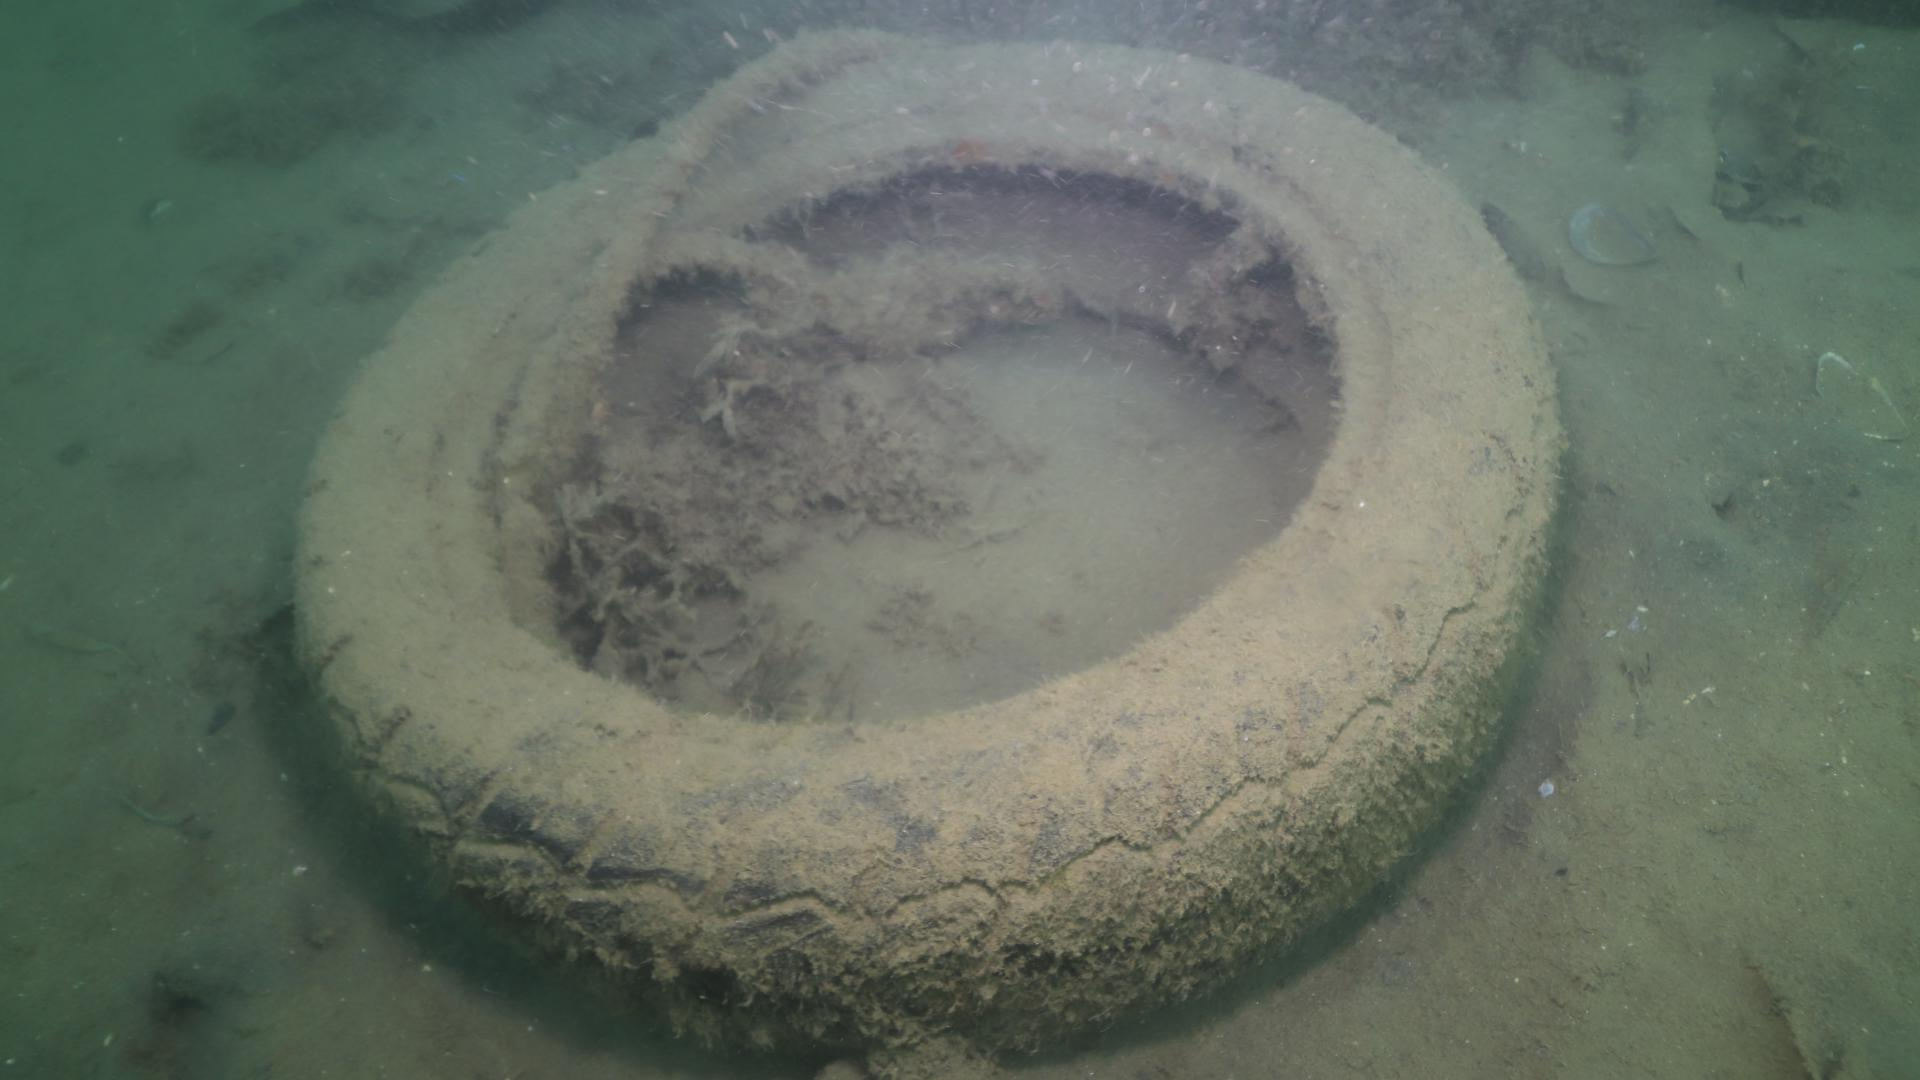bundle of ropes: (545, 29, 881, 400)
tire: (287, 32, 1564, 1065)
